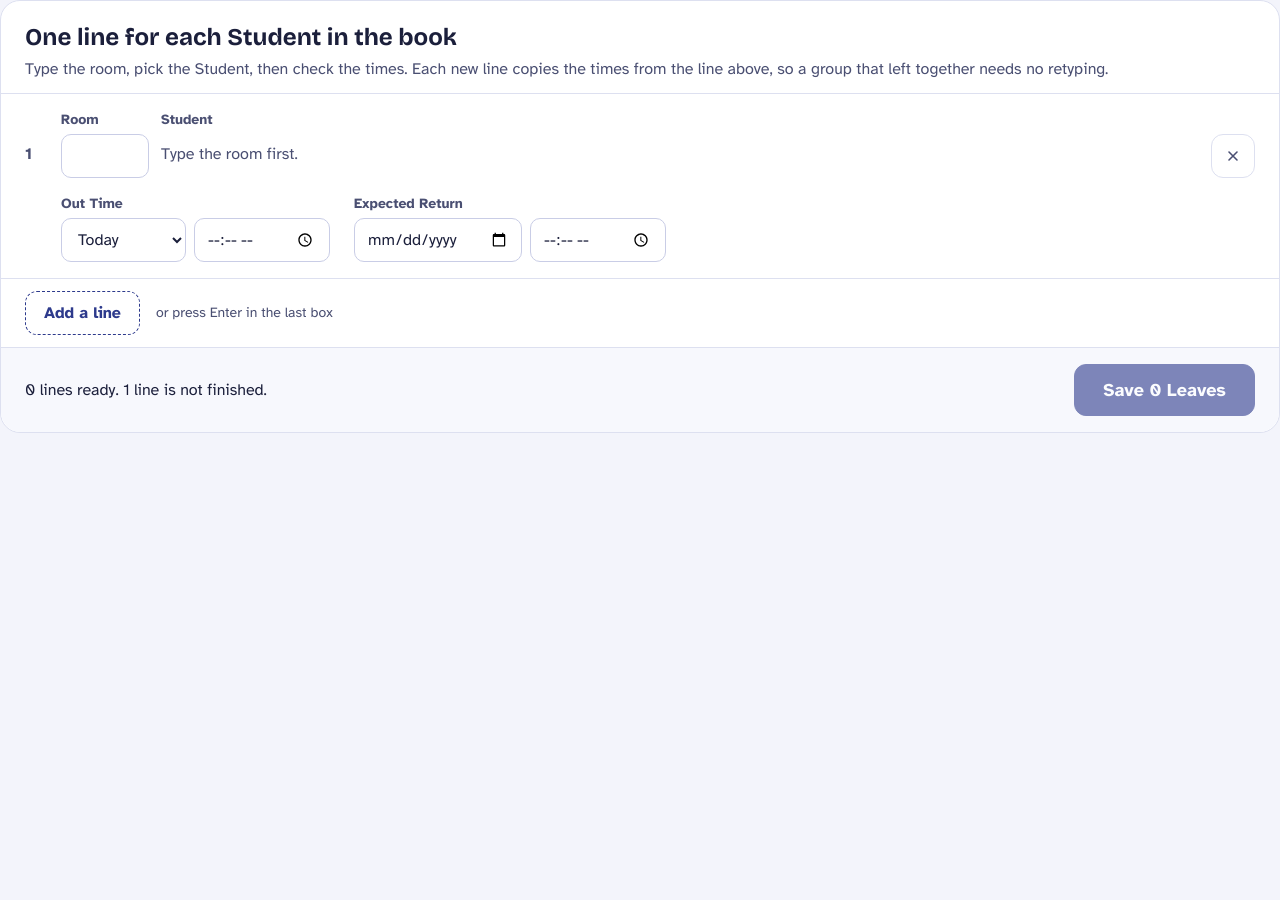
Test: the Going-to-Home Book › starts a new line with the times of the line above
This screenshot has width=1280, height=900.
In the field named "Room, line 1": (105, 156) [61,134,149,178], type "212"
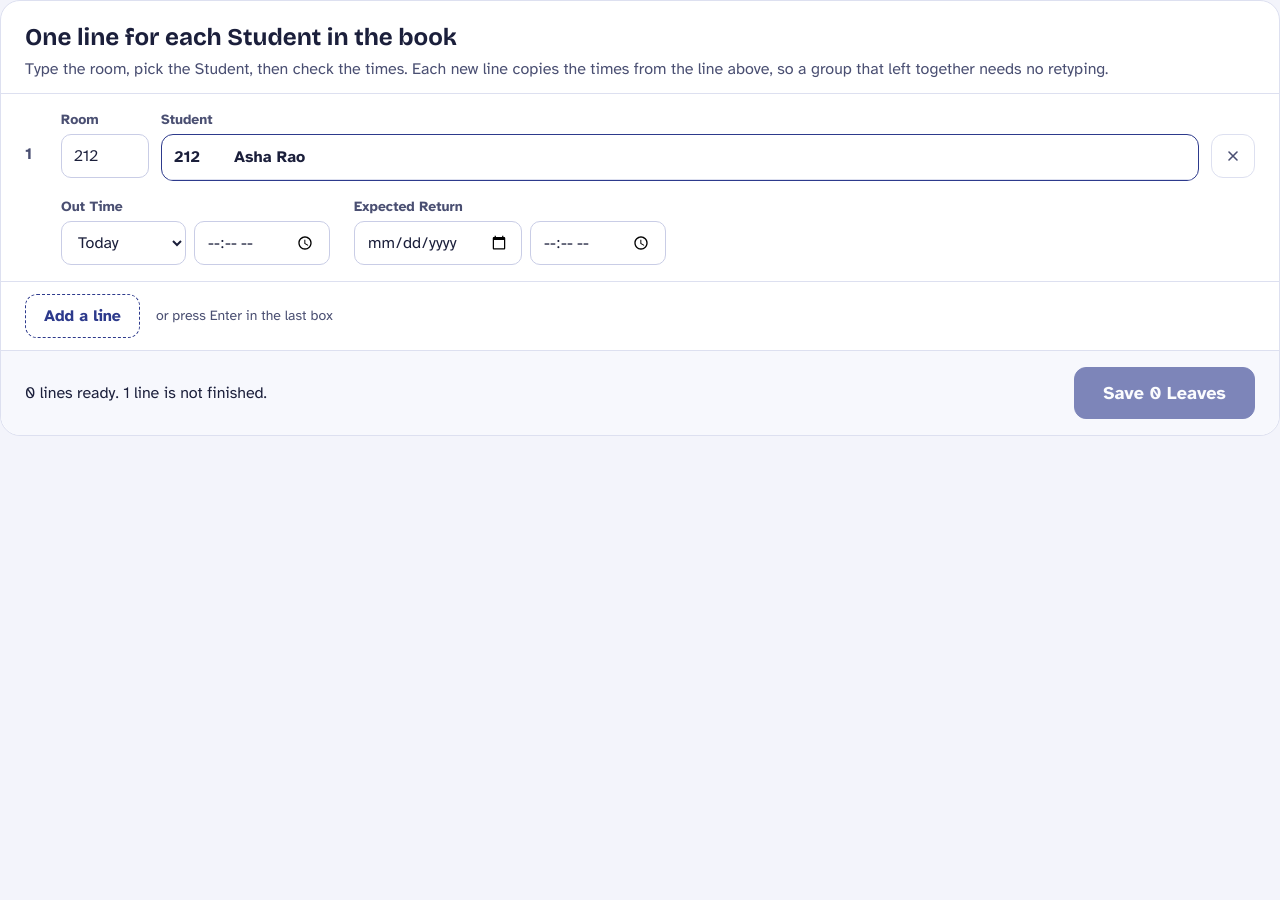
Click the button with aria-label "Asha Rao, room 212": (270, 157) [162,135,1198,179]
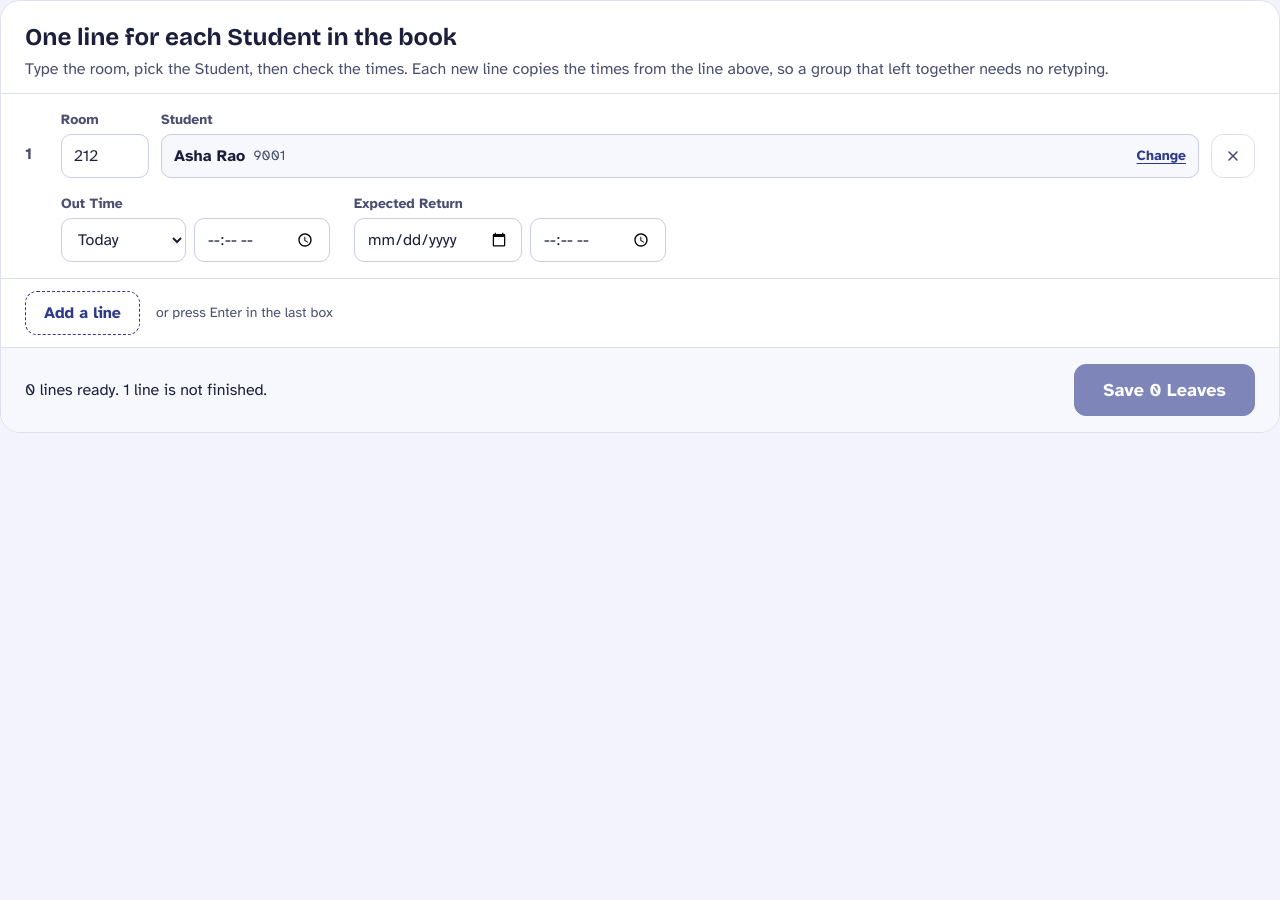
In the time field named "Out Time, line 1": (262, 240) [194,218,330,262], type "16:30"
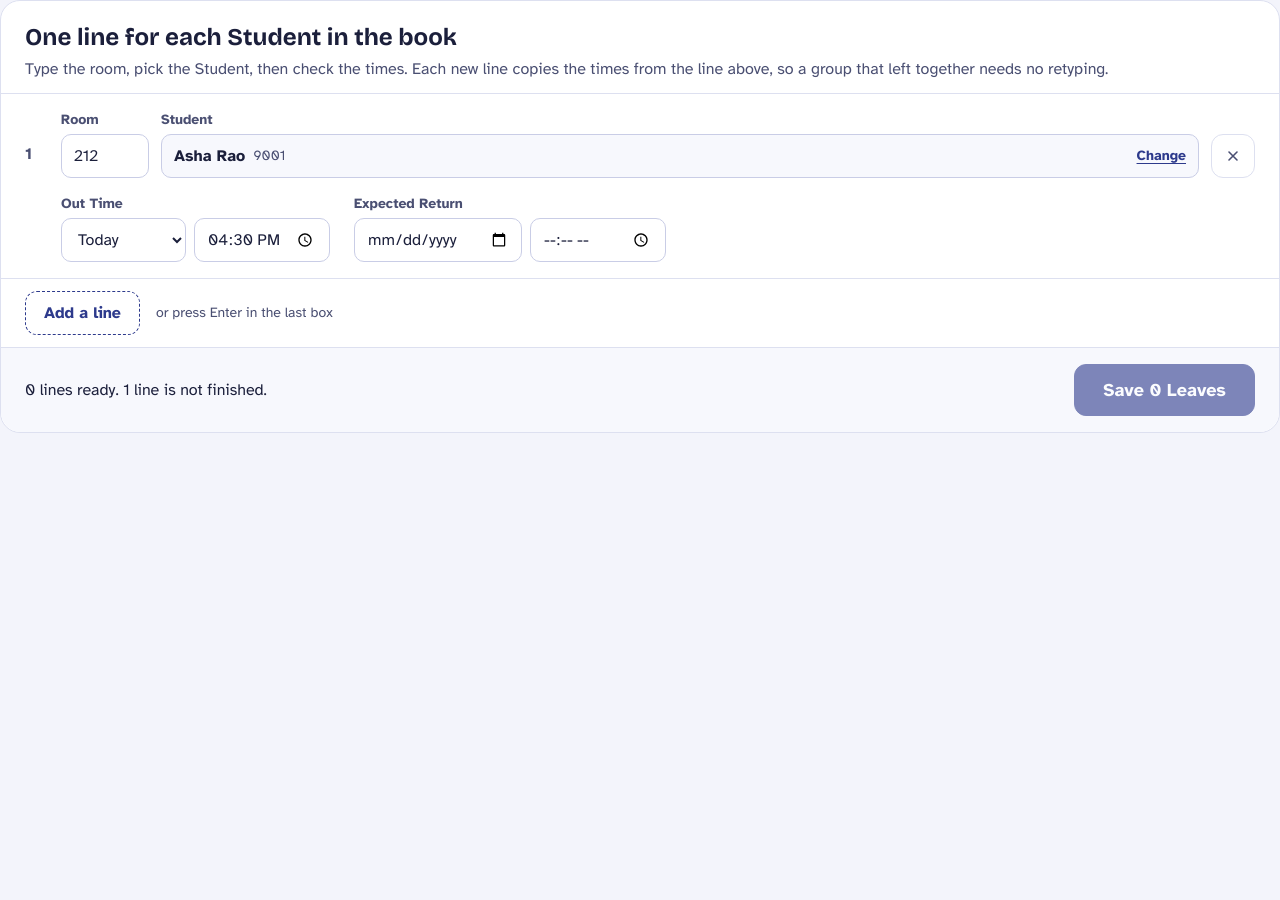
In the date field named "Expected Return date, line 1": (438, 240) [354,218,522,262], type "2026-11-08"
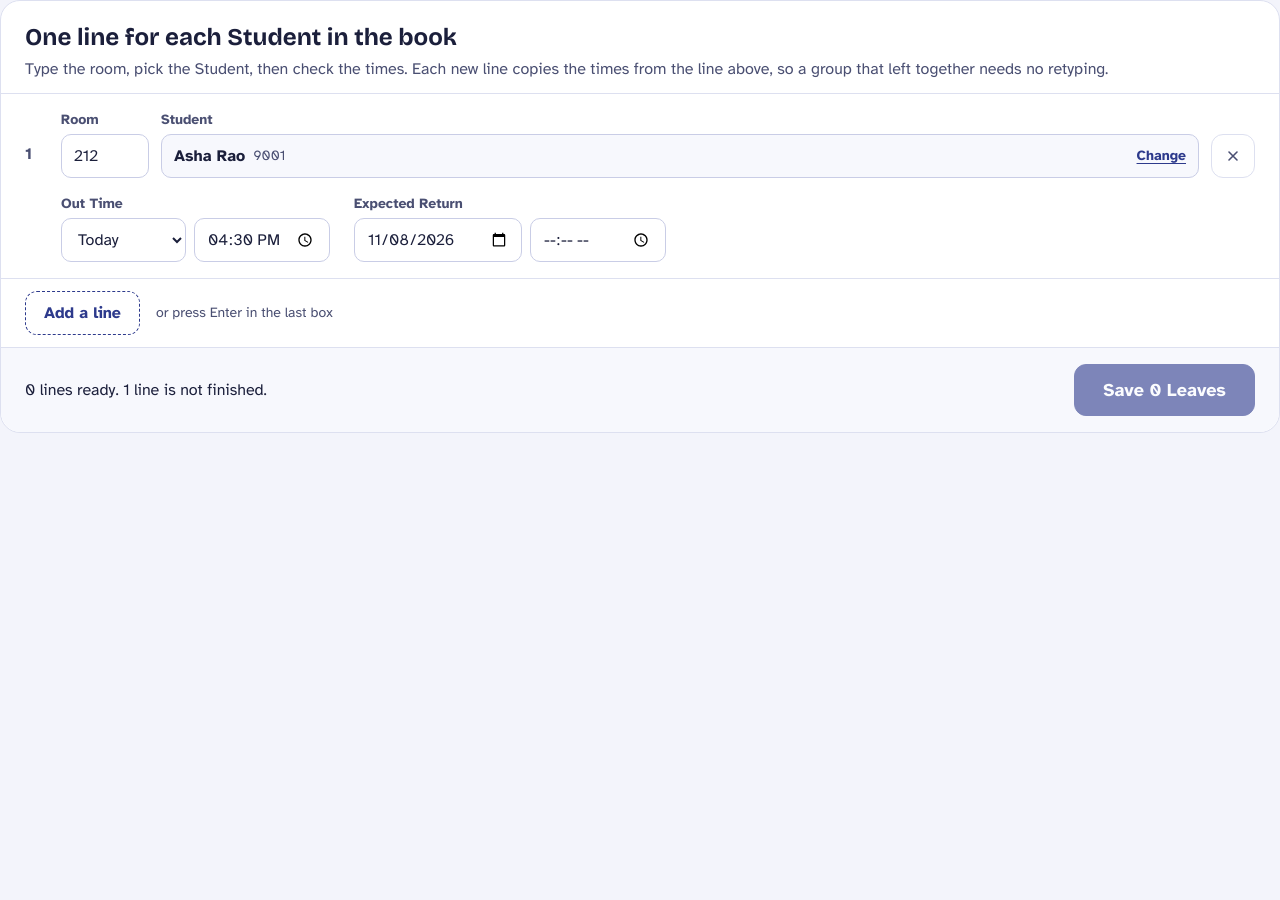
In the time field named "Expected Return time, line 1": (598, 240) [530,218,666,262], type "18:00"
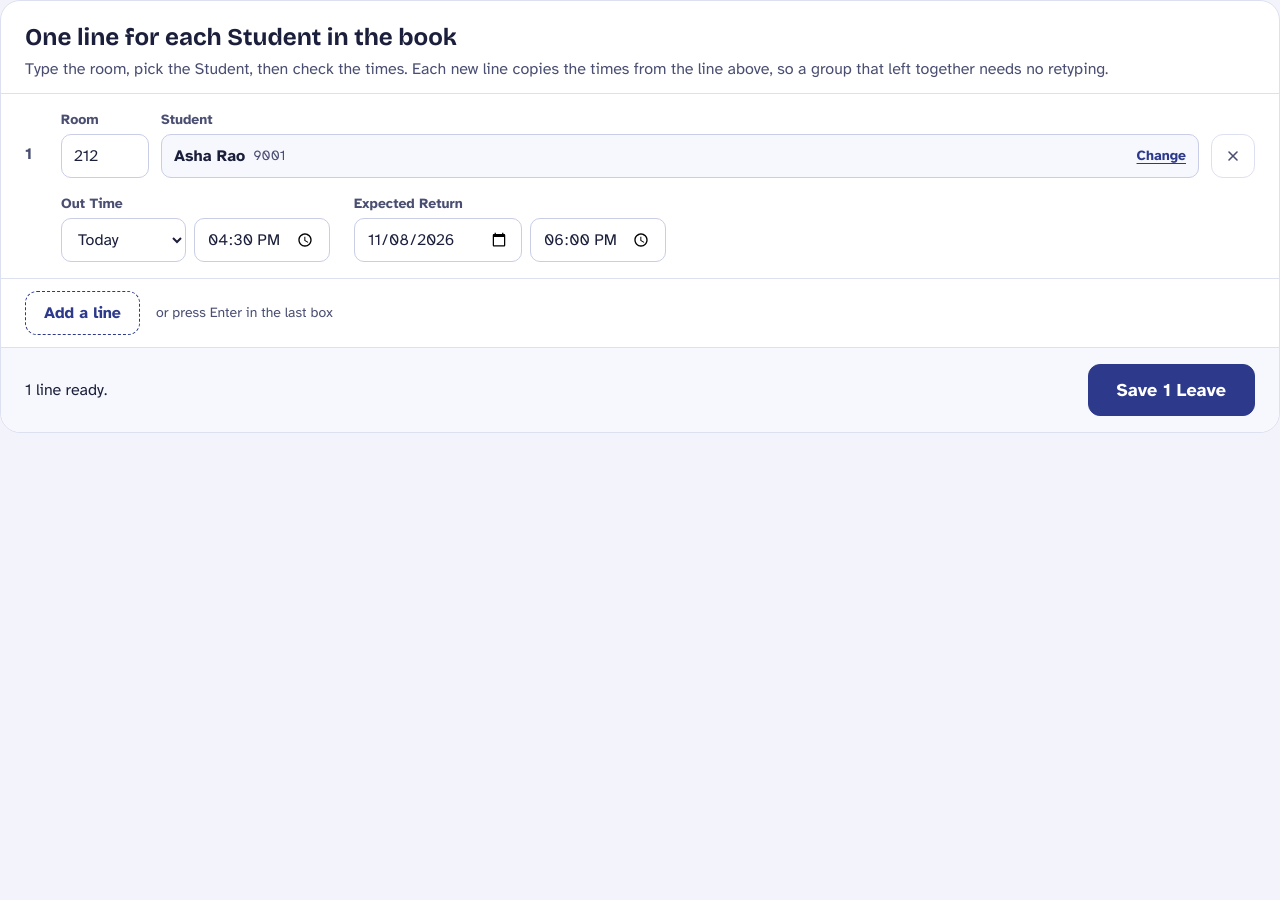
Click the button "Add a line": (82, 313) [25,291,140,335]
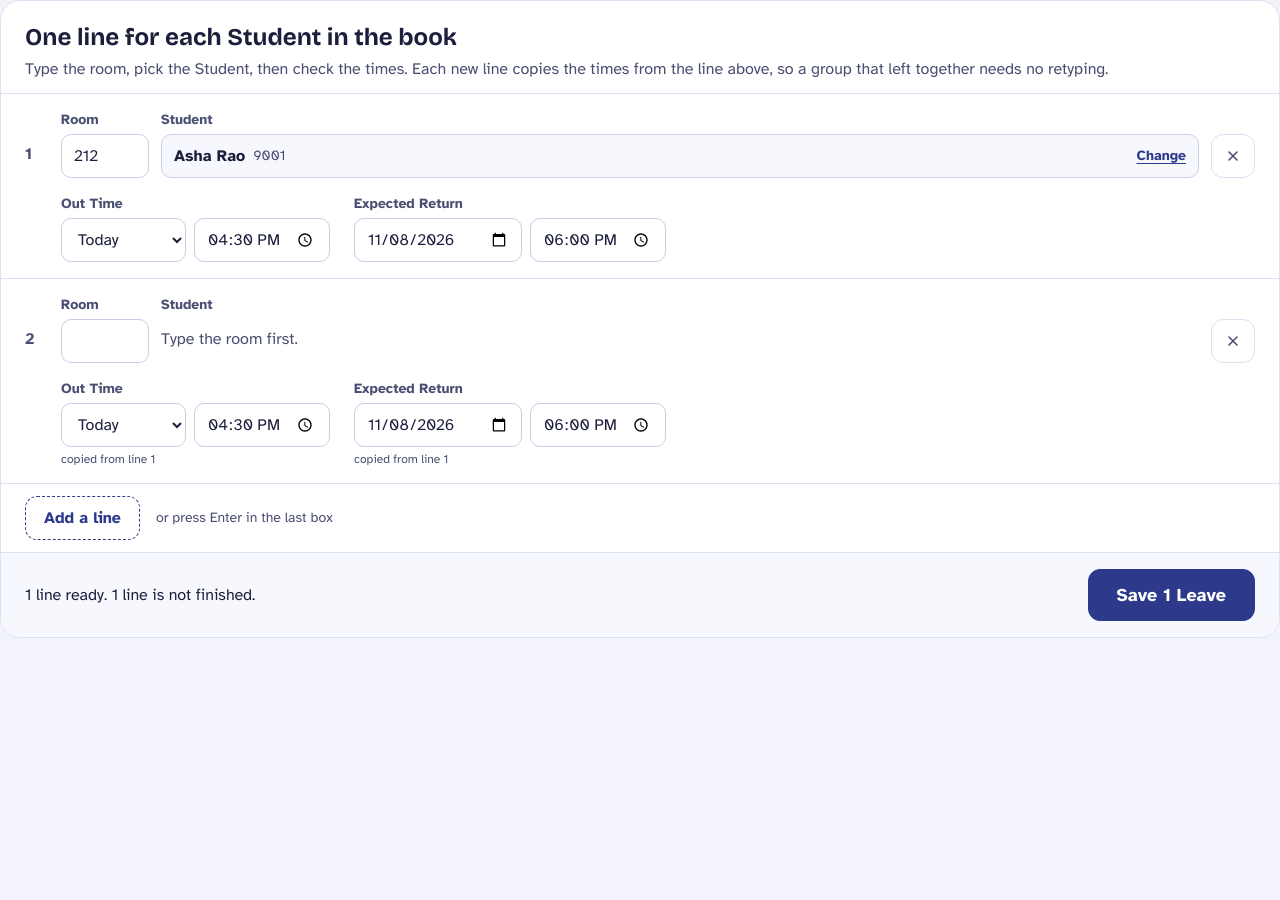
Expected: the time field named "Out Time, line 2" holds "16:30", [194,403,330,447]
Expected: the date field named "Expected Return date, line 2" holds "2026-11-08", [354,403,522,447]
Expected: the time field named "Expected Return time, line 2" holds "18:00", [530,403,666,447]
